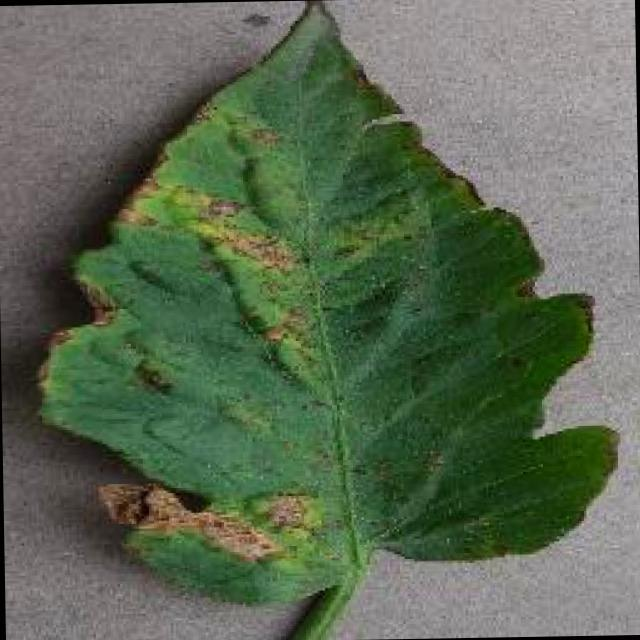Tomato bacterial spot leaf: (22, 0, 625, 615)
